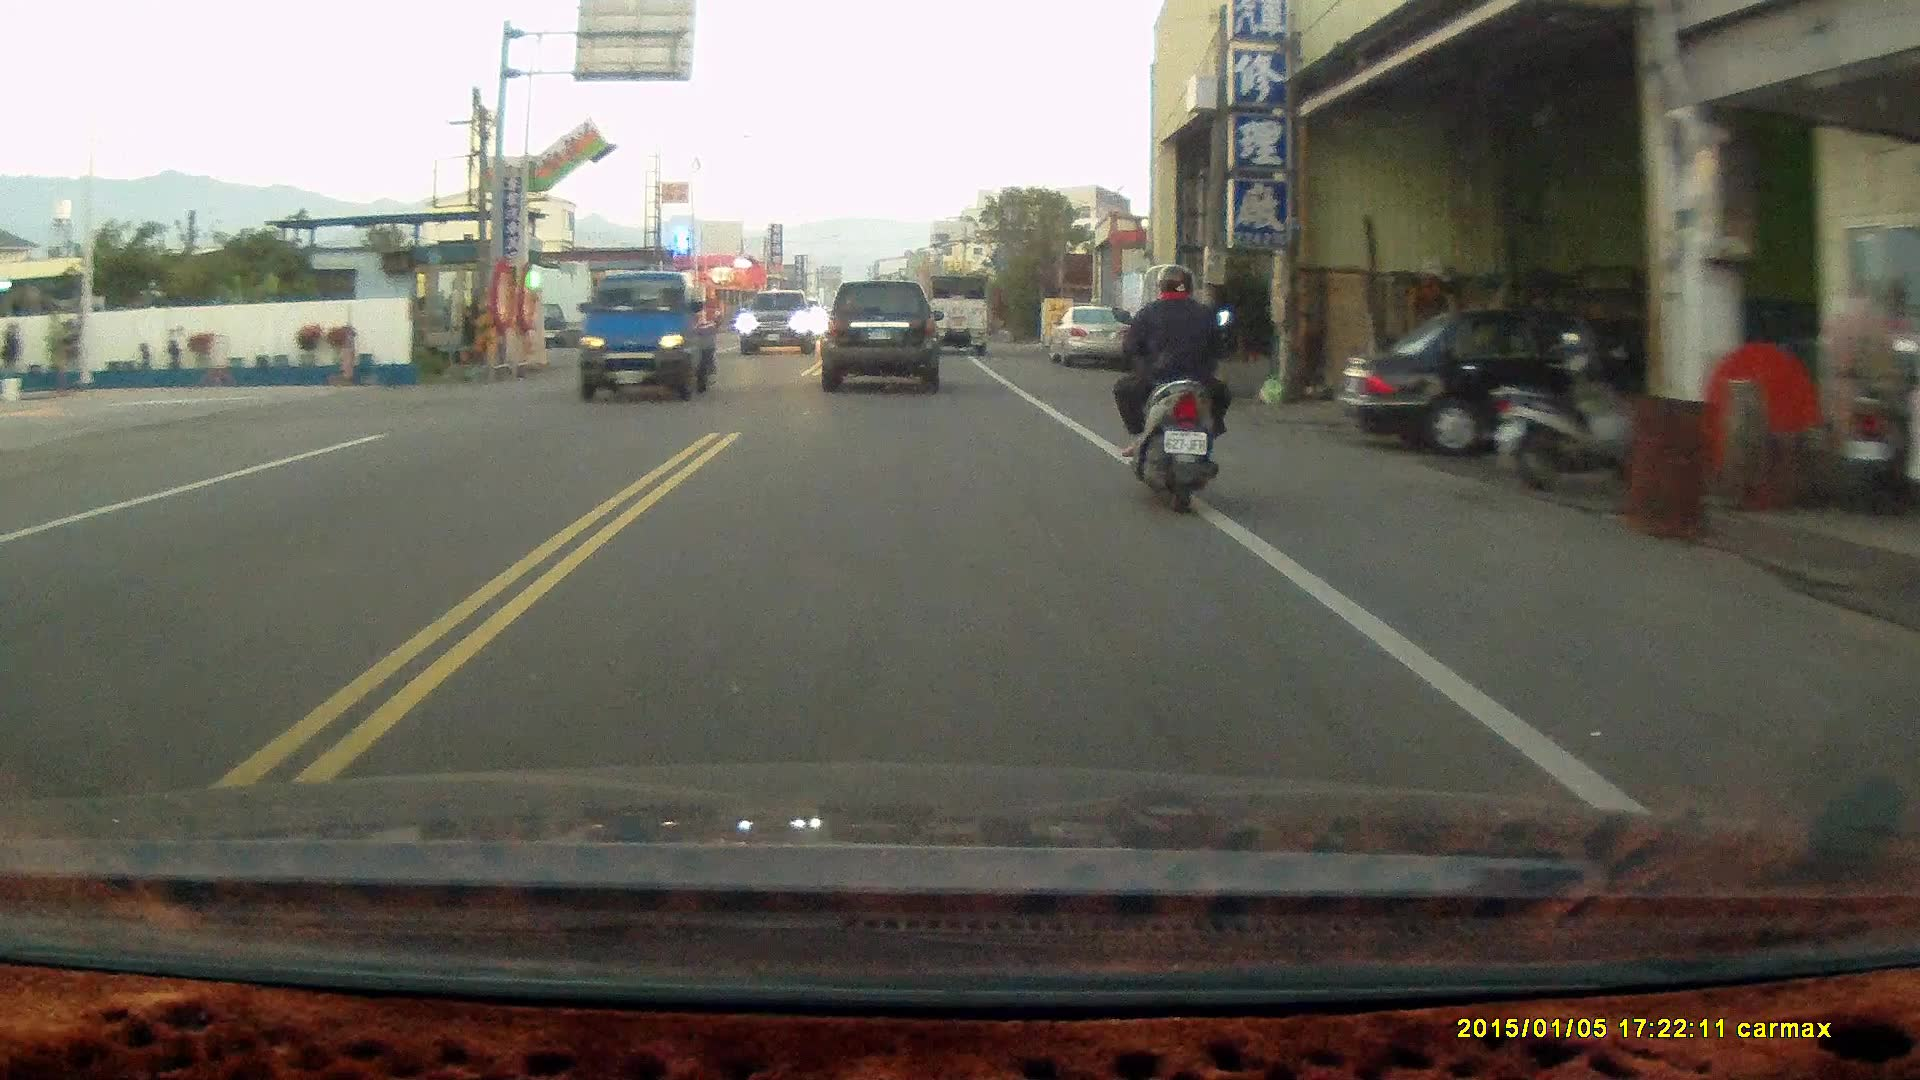rider: (1109, 263, 1232, 515)
vehicle: (1336, 297, 1684, 454), (573, 268, 723, 399), (825, 279, 942, 390), (1042, 300, 1138, 362), (923, 273, 991, 357), (742, 289, 820, 354)
